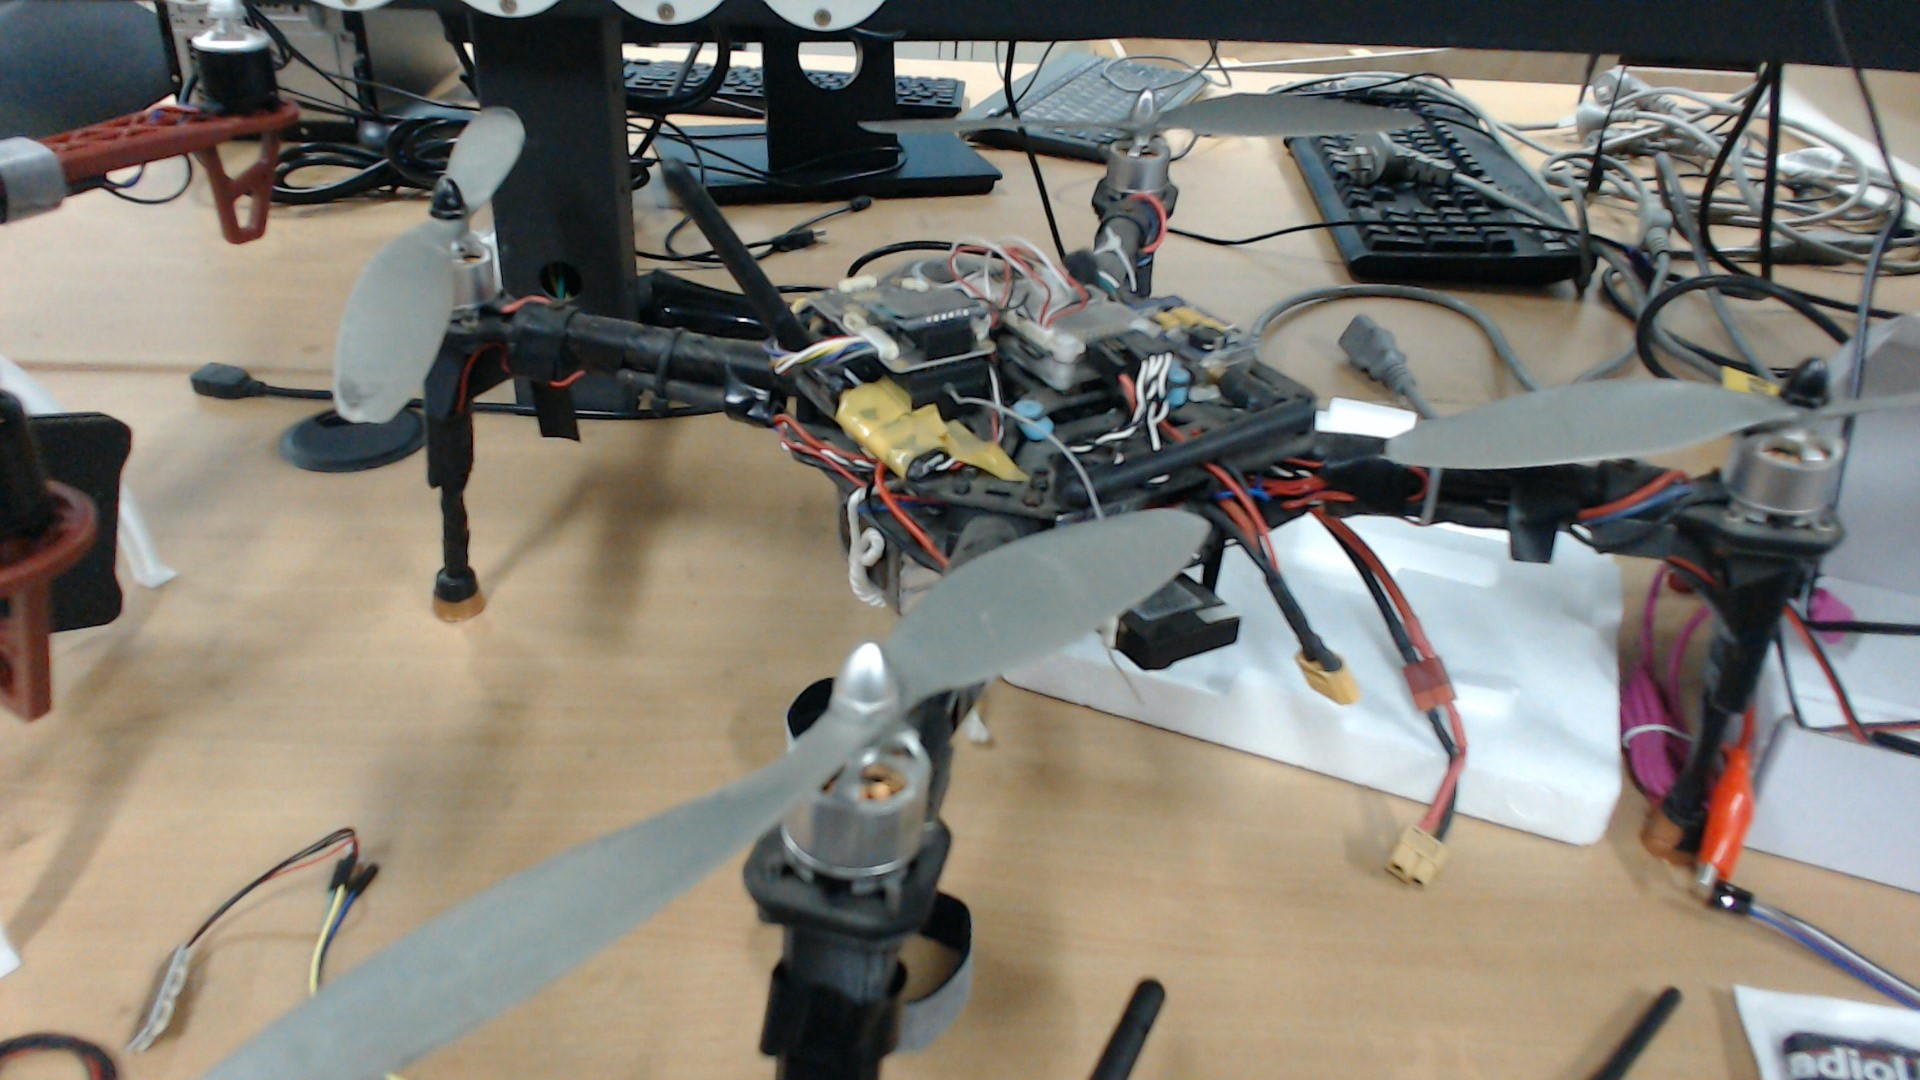drone_rotary_wing: (156, 510, 1213, 1080), (1379, 353, 1920, 469), (330, 103, 524, 425), (853, 88, 1422, 152)
